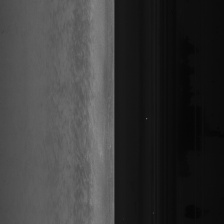silk_spot: (73, 38, 98, 192)
